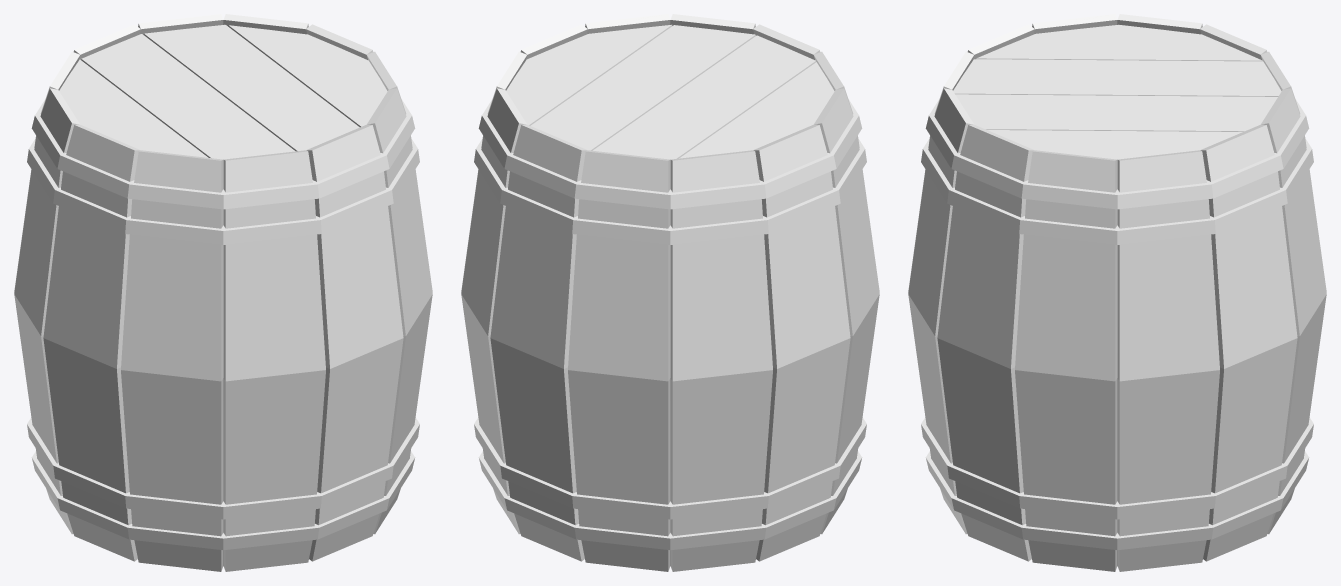
The model's file is Prop_Barrel_01.glb.
3 renders of one model, left to right at view 1: azimuth 30°, elevation 25°; view 2: azimuth 150°, elevation 25°; view 3: azimuth 270°, elevation 25°, orthographic.
Visible parts, largest first — view 1: Prop_Barrel_01; view 2: Prop_Barrel_01; view 3: Prop_Barrel_01.
Boxes of the visible parts, x1=… form: Prop_Barrel_01: x1=14, y1=14, x2=432, y2=571; Prop_Barrel_01: x1=461, y1=14, x2=879, y2=571; Prop_Barrel_01: x1=908, y1=14, x2=1326, y2=571.
Bounding box in the file's own units: 0.8302 × 0.9 × 0.8302.
Materials: 1 (1 with a texture image).
